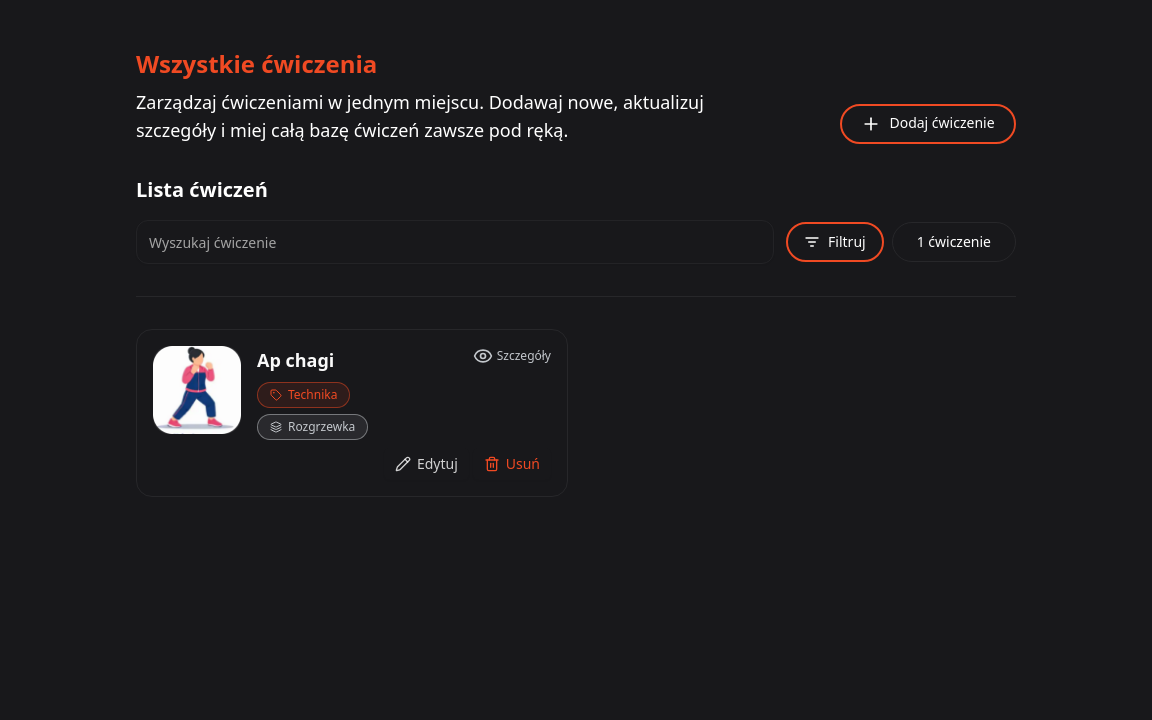
ExerciseListPage › opens create and prefilled edit dialogs
Click the button "Dodaj ćwiczenie" at (928, 124), box [840,104,1016,144]
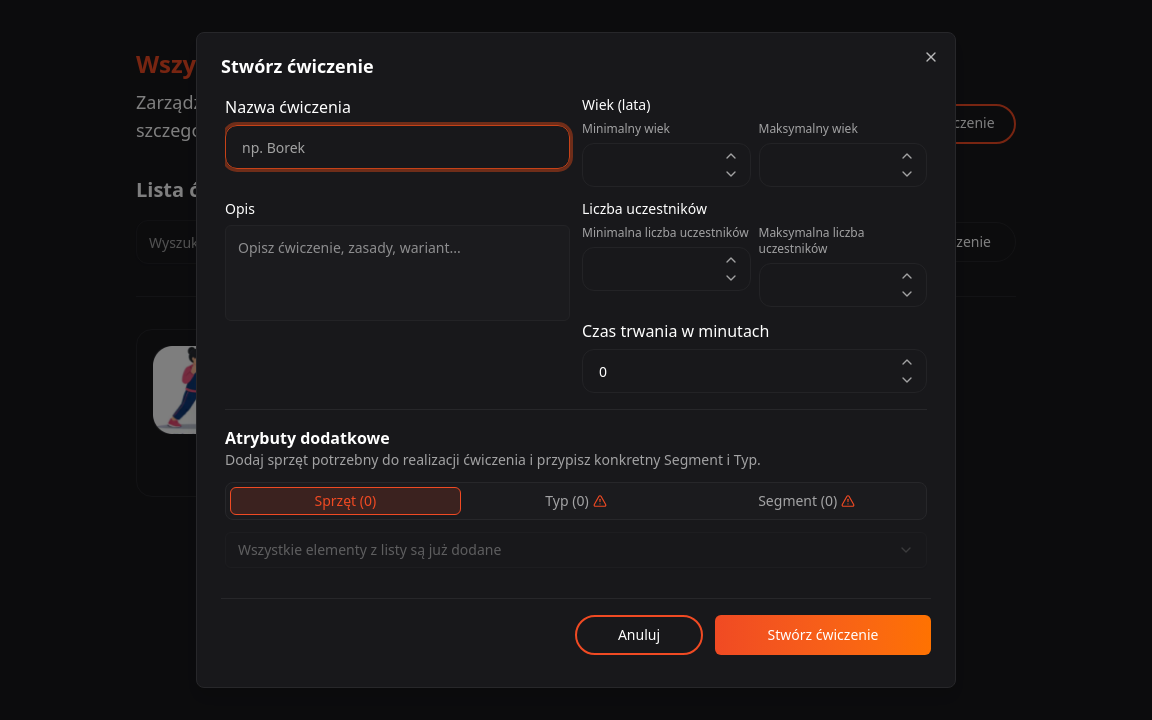
Check: the heading "Stwórz ćwiczenie" is shown, box [221,54,374,78]
Press Escape in the dialog
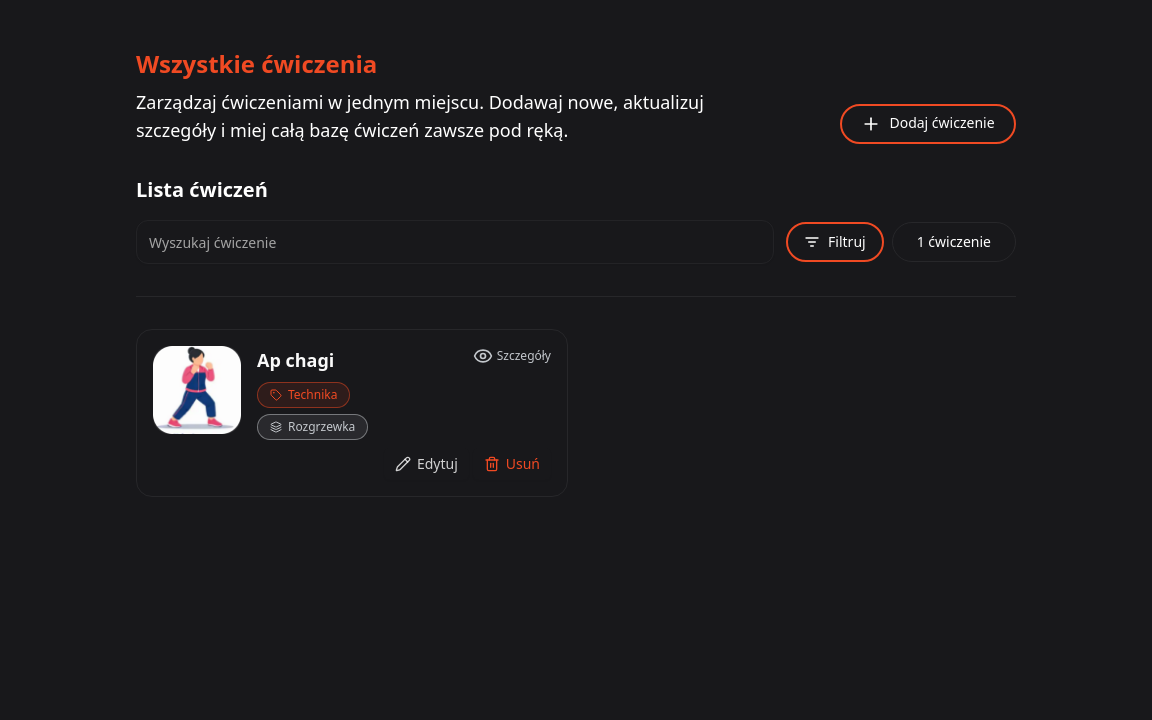
Click the button "Edytuj" at (426, 464), box [384,448,469,480]
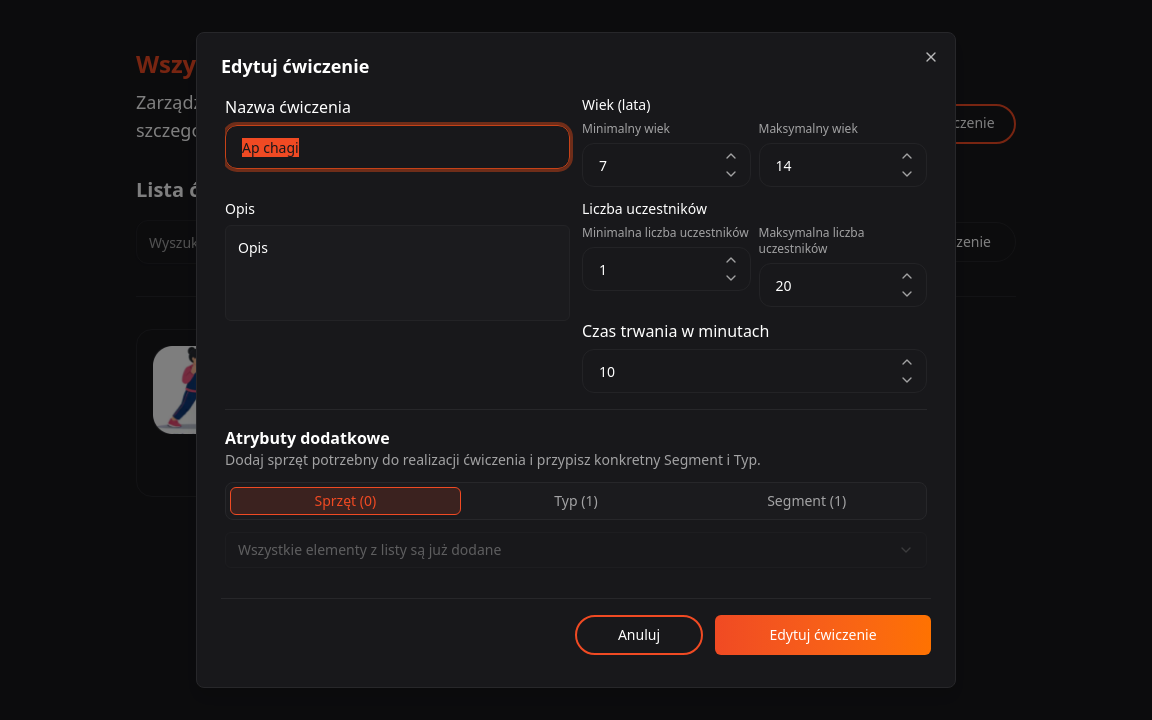
Check: the heading "Edytuj ćwiczenie" is shown, box [221,54,369,78]
Check: the field labelled "Nazwa ćwiczenia" holds "Ap chagi", box [225,125,570,169]
